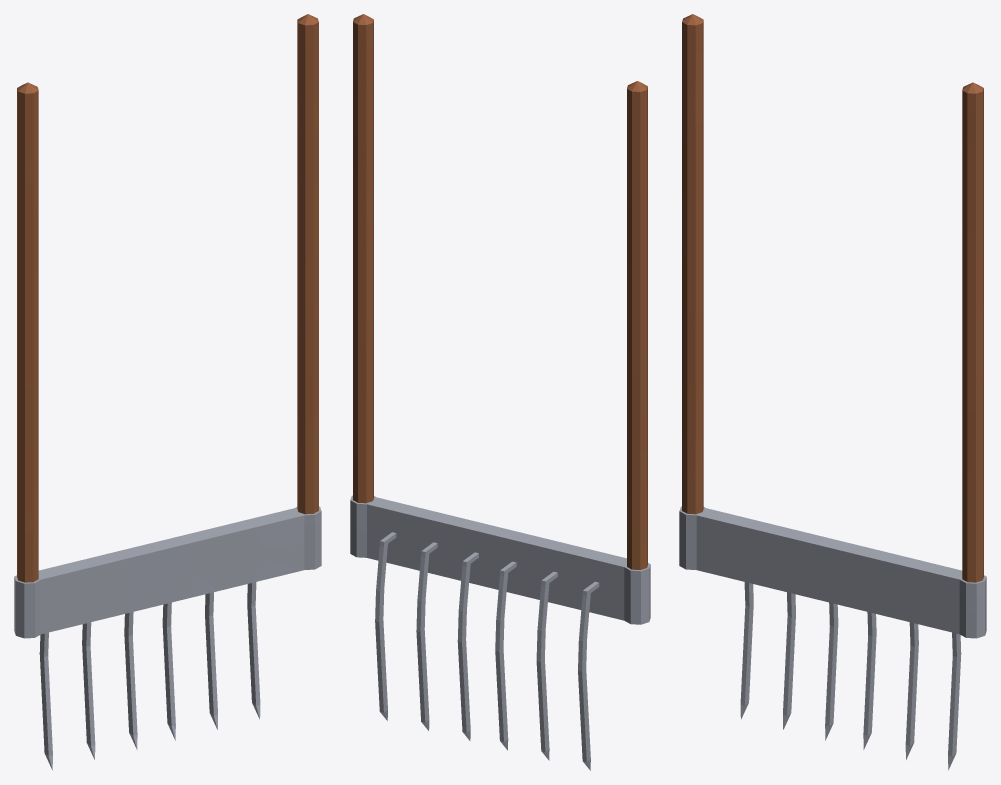
The model's file is mod_tool_spadeFork.fbx.
3 renders of one model, left to right at view 1: azimuth 30°, elevation 25°; view 2: azimuth 150°, elevation 25°; view 3: azimuth 330°, elevation 25°, orthographic. The views are drawn at different scales.
Visible parts, largest first — view 1: Cylinder; view 2: Cylinder; view 3: Cylinder.
Part boxes in pixels (x1,y1,x2,y2): Cylinder: (14,14,321,770); Cylinder: (350,14,650,770); Cylinder: (679,14,986,770).
Bounding box in the file's own units: 27.9 × 61.84 × 4.66.
